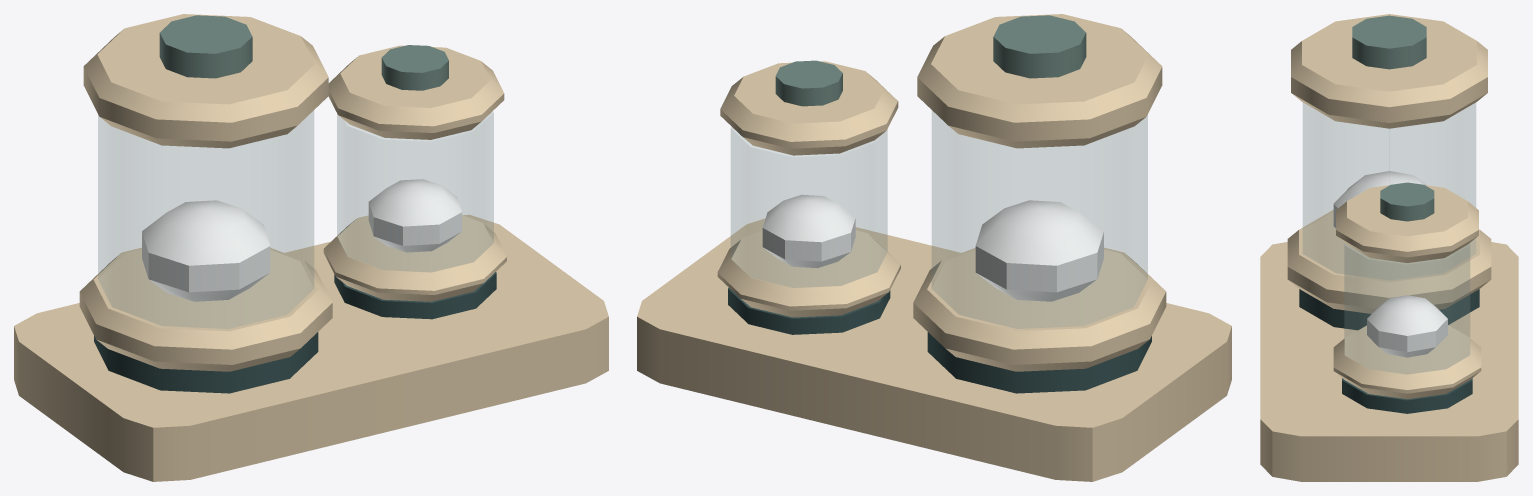
File: specimen-pods.glb
3 renders of one model, left to right at view 1: azimuth 30°, elevation 25°; view 2: azimuth 150°, elevation 25°; view 3: azimuth 270°, elevation 25°, orthographic. The views are drawn at different scales.
Visible parts, largest first — view 1: specimen-pods; view 2: specimen-pods; view 3: specimen-pods.
Part boxes in pixels (<box>): specimen-pods: <box>14,14,608,481</box>; specimen-pods: <box>637,14,1231,481</box>; specimen-pods: <box>1260,14,1518,481</box>.
Bounding box in the file's own units: 2.6 × 1.9 × 1.44.
Materials: 3 (1 with a texture image).
